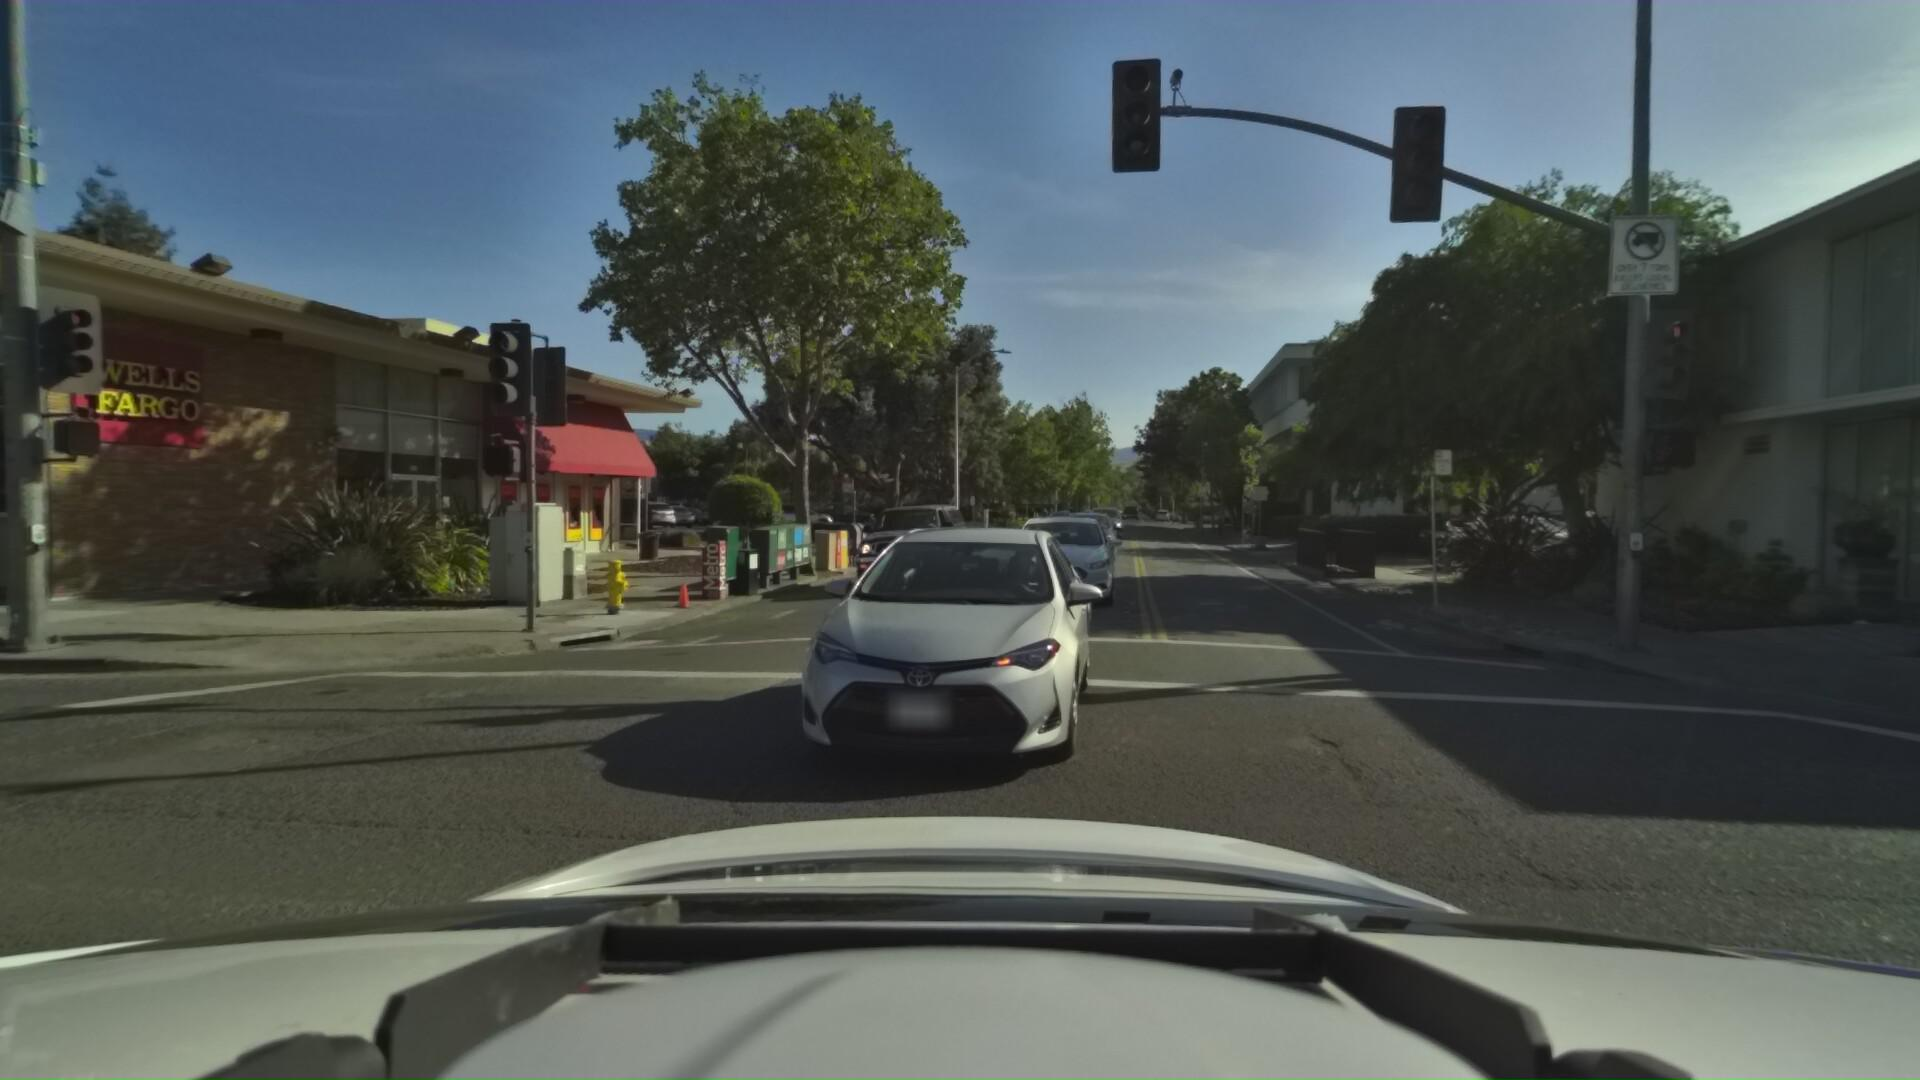car: (742, 512, 1098, 831), (837, 491, 971, 591), (1010, 509, 1124, 611), (1407, 514, 1487, 560), (1054, 508, 1118, 564), (750, 500, 844, 533), (793, 498, 881, 529), (1084, 504, 1125, 539)
motorcycle: (1415, 518, 1509, 582)
